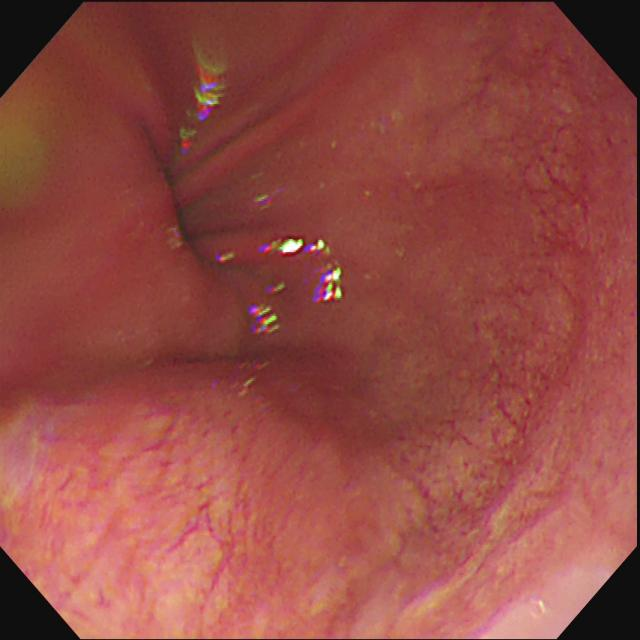U: (179, 46, 235, 153), (251, 284, 287, 340), (263, 237, 335, 258), (314, 261, 346, 307), (256, 188, 281, 211), (215, 251, 237, 267)
